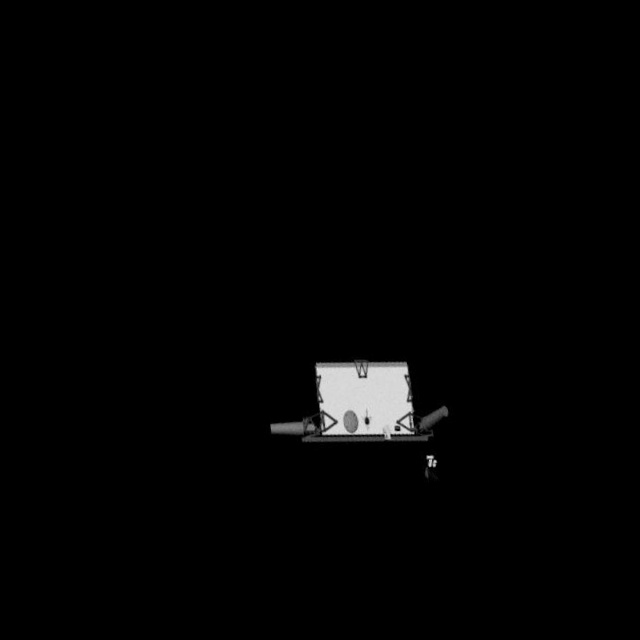medium_debris: (248, 320, 485, 515)
